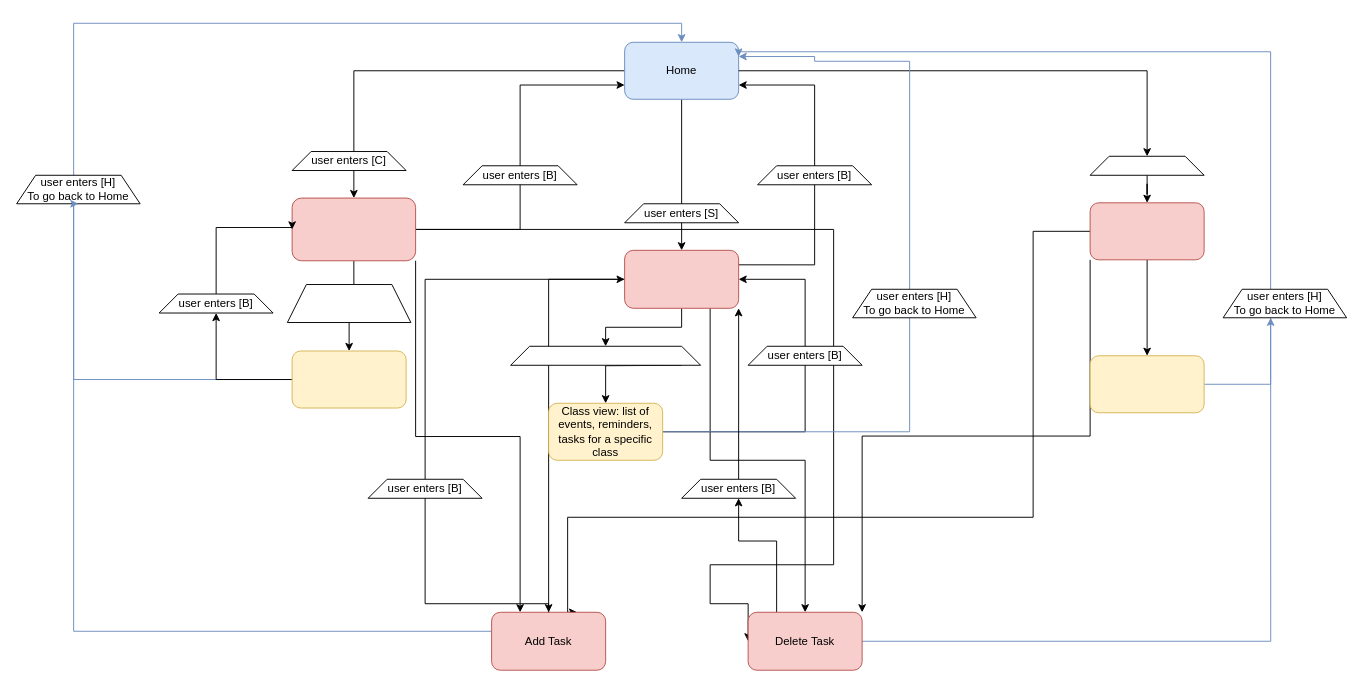
Some shapes in this 1363 by 687 pixel diagram are drawn without their labels. Each missing label, with the centre of its shape:
Calendar: the point at 353,229
Courses list: the point at 681,278
Day View: list of events, reminders, tasks for a specific day: the point at 348,379
Task list: the point at 1146,231
user enters [D] and date for day of month?: the point at 348,303
user enters [T]: the point at 1146,165
user enters subject abbreviation: the point at 605,355
View individual task: the point at 1146,384
